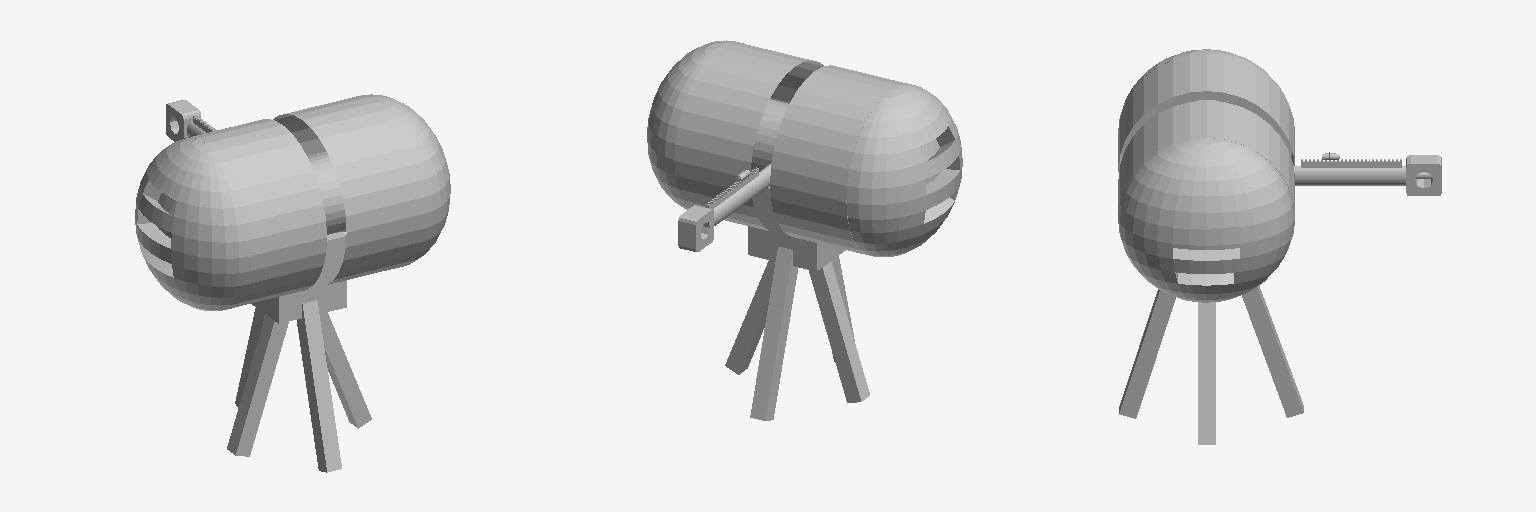
The model's file is sentry.obj.
The picture shows the model from 3 angles: view 1: azimuth 30°, elevation 25°; view 2: azimuth 150°, elevation 25°; view 3: azimuth 270°, elevation 25°; orthographic projection.
Visible parts, largest first — view 1: Sphere.001, Cube.001_Cube.002, Cube, Plane; view 2: Sphere.001, Cube.001_Cube.002, Cube, Plane, Cylinder.003; view 3: Sphere.001, Cube.001_Cube.002, Cylinder.003, Plane, Cube.005_Cube.006.
Part boxes in pixels (bbox=[...]): Sphere.001: bbox=[135, 94, 450, 310]; Cube.001_Cube.002: bbox=[227, 300, 371, 472]; Cube: bbox=[251, 232, 346, 323]; Plane: bbox=[166, 100, 200, 141]; Sphere.001: bbox=[647, 40, 962, 256]; Cube.001_Cube.002: bbox=[725, 247, 869, 420]; Cube: bbox=[748, 186, 845, 271]; Plane: bbox=[678, 205, 713, 251]; Cylinder.003: bbox=[714, 163, 771, 225]; Sphere.001: bbox=[1118, 49, 1294, 302]; Cube.001_Cube.002: bbox=[1119, 286, 1303, 444]; Cylinder.003: bbox=[1294, 166, 1432, 185]; Plane: bbox=[1406, 155, 1441, 195]; Cube.005_Cube.006: bbox=[1301, 159, 1401, 167].
Size of the model in its own units: 0.5974 by 0.6393 by 0.5865.